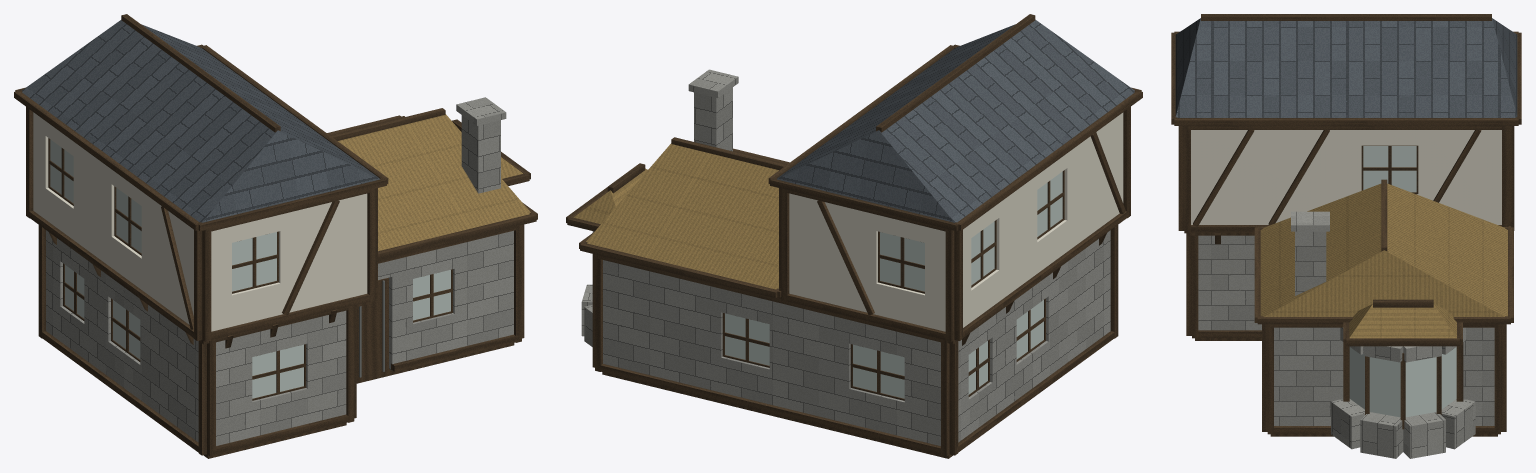
The model's file is lodge.glb.
The picture shows the model from 3 angles, left to right: view 1: azimuth 30°, elevation 25°; view 2: azimuth 150°, elevation 25°; view 3: azimuth 270°, elevation 25°; orthographic projection. The views are drawn at different scales.
Parts seen in each view (by area): view 1: Lodge_GroundShell_Light_gray_limestone, Lodge_Roof_Blue_gray_slate, Lodge_UpperShell_Oat_plaster, Lodge_Roof_Muted_wheat_thatch, Lodge_GroundShell_Warm_oak, Lodge_UpperShell_Warm_oak, Lodge_Roof_Warm_oak, Lodge_Glazing_Muted_old_glass, Lodge_Chimney_Light_gray_limestone, Lodge_Door_Warm_oak, Lodge_GroundFloor_Warm_oak; view 2: Lodge_GroundShell_Light_gray_limestone, Lodge_Roof_Blue_gray_slate, Lodge_UpperShell_Oat_plaster, Lodge_Roof_Muted_wheat_thatch, Lodge_GroundShell_Warm_oak, Lodge_UpperShell_Warm_oak, Lodge_Roof_Warm_oak, Lodge_Glazing_Muted_old_glass, Lodge_Chimney_Light_gray_limestone, Lodge_GroundFloor_Warm_oak; view 3: Lodge_Roof_Blue_gray_slate, Lodge_Roof_Muted_wheat_thatch, Lodge_GroundShell_Light_gray_limestone, Lodge_UpperShell_Oat_plaster, Lodge_Roof_Warm_oak, Lodge_GroundShell_Warm_oak, Lodge_Glazing_Muted_old_glass, Lodge_UpperShell_Warm_oak, Lodge_Chimney_Light_gray_limestone, Lodge_GroundFloor_Warm_oak.
Boxes of the visible parts, x1=… form: Lodge_GroundShell_Light_gray_limestone: x1=46, y1=230, x2=513, y2=445; Lodge_Roof_Blue_gray_slate: x1=22, y1=20, x2=379, y2=222; Lodge_UpperShell_Oat_plaster: x1=33, y1=112, x2=367, y2=331; Lodge_Roof_Muted_wheat_thatch: x1=338, y1=114, x2=530, y2=251; Lodge_GroundShell_Warm_oak: x1=38, y1=224, x2=524, y2=456; Lodge_UpperShell_Warm_oak: x1=26, y1=107, x2=377, y2=341; Lodge_Roof_Warm_oak: x1=14, y1=14, x2=537, y2=259; Lodge_Glazing_Muted_old_glass: x1=50, y1=139, x2=450, y2=398; Lodge_Chimney_Light_gray_limestone: x1=456, y1=97, x2=506, y2=193; Lodge_Door_Warm_oak: x1=356, y1=278, x2=388, y2=377; Lodge_GroundFloor_Warm_oak: x1=204, y1=343, x2=514, y2=458; Lodge_GroundShell_Light_gray_limestone: x1=581, y1=230, x2=1110, y2=445; Lodge_Roof_Blue_gray_slate: x1=777, y1=19, x2=1134, y2=222; Lodge_UpperShell_Oat_plaster: x1=789, y1=112, x2=1123, y2=331; Lodge_Roof_Muted_wheat_thatch: x1=573, y1=143, x2=778, y2=289; Lodge_GroundShell_Warm_oak: x1=592, y1=225, x2=1118, y2=456; Lodge_UpperShell_Warm_oak: x1=779, y1=107, x2=1130, y2=341; Lodge_Roof_Warm_oak: x1=566, y1=14, x2=1142, y2=298; Lodge_Glazing_Muted_old_glass: x1=725, y1=171, x2=1062, y2=398; Lodge_Chimney_Light_gray_limestone: x1=688, y1=69, x2=738, y2=151; Lodge_GroundFloor_Warm_oak: x1=602, y1=372, x2=952, y2=458; Lodge_Roof_Blue_gray_slate: x1=1175, y1=18, x2=1517, y2=117; Lodge_Roof_Muted_wheat_thatch: x1=1260, y1=183, x2=1507, y2=338; Lodge_GroundShell_Light_gray_limestone: x1=1198, y1=235, x2=1494, y2=458; Lodge_UpperShell_Oat_plaster: x1=1191, y1=130, x2=1501, y2=224; Lodge_Roof_Warm_oak: x1=1171, y1=14, x2=1521, y2=346; Lodge_GroundShell_Warm_oak: x1=1186, y1=233, x2=1506, y2=434; Lodge_Glazing_Muted_old_glass: x1=1349, y1=146, x2=1456, y2=417; Lodge_UpperShell_Warm_oak: x1=1178, y1=126, x2=1514, y2=233; Lodge_Chimney_Light_gray_limestone: x1=1291, y1=211, x2=1329, y2=295; Lodge_GroundFloor_Warm_oak: x1=1195, y1=338, x2=1497, y2=436.
Size of the model in its own units: 12.47 by 8.61 by 9.26.
11 materials, 4 textured.
